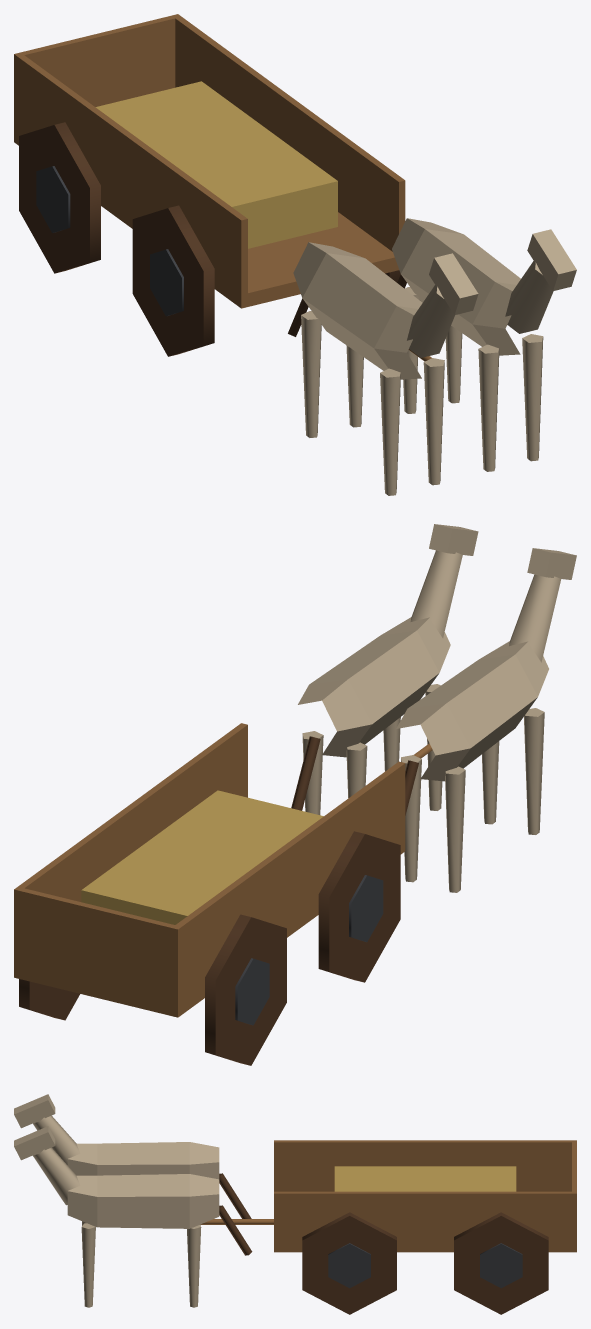
The model's file is veh_ground_wagon_a02_lod1.glb.
3 renders of one model, top to bottom at view 1: azimuth 30°, elevation 25°; view 2: azimuth 150°, elevation 25°; view 3: azimuth 270°, elevation 25°, orthographic. The views are drawn at different scales.
Parts seen in each view (by area): view 1: body, animal_0, animal_1, wheel_2, wheel_0; view 2: body, animal_0, animal_1, wheel_2, wheel_0, wheel_1; view 3: body, animal_1, wheel_1, wheel_3, animal_0.
Boxes of the visible parts, <box> form: body: <box>14,14,431,361</box>; animal_0: <box>288,242,478,495</box>; animal_1: <box>392,218,576,471</box>; wheel_2: <box>132,205,214,356</box>; wheel_0: <box>19,122,100,273</box>; body: <box>14,723,432,1017</box>; animal_0: <box>396,548,576,892</box>; animal_1: <box>291,524,478,814</box>; wheel_2: <box>318,831,400,982</box>; wheel_0: <box>205,914,286,1065</box>; wheel_1: <box>19,979,79,1020</box>; body: <box>200,1140,576,1252</box>; animal_1: <box>14,1126,252,1307</box>; wheel_1: <box>454,1212,548,1314</box>; wheel_3: <box>302,1212,396,1314</box>; animal_0: <box>14,1094,251,1218</box>.
Size of the model in its own units: 1.84 by 2.23 by 6.69.
